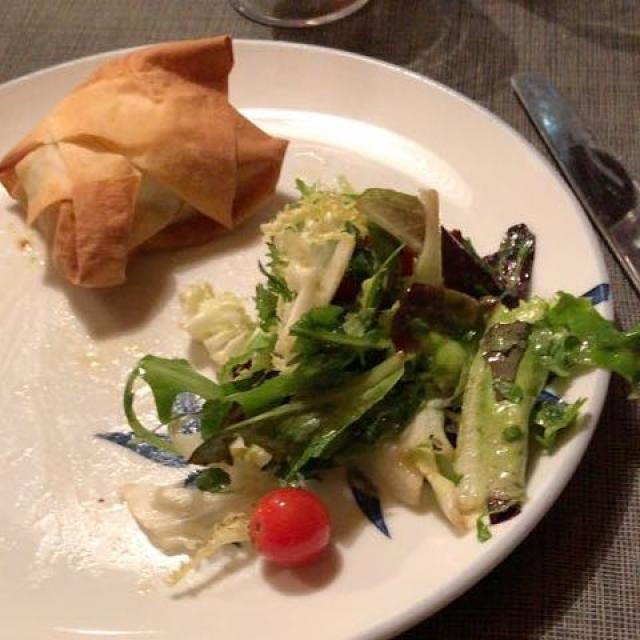salad: (125, 191, 629, 551)
tomato: (242, 490, 338, 571)
